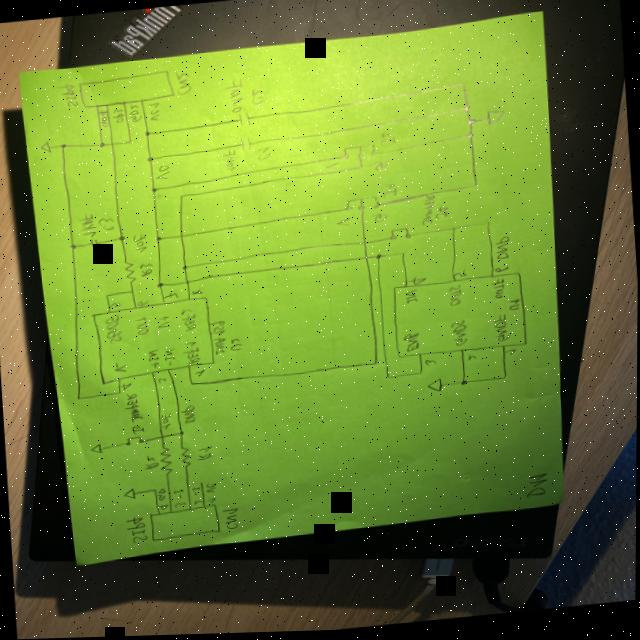capacitor: (238, 112, 253, 128), (239, 138, 253, 151), (88, 237, 101, 248)
crossover: (184, 278, 192, 285), (363, 255, 370, 261), (109, 140, 116, 146), (179, 233, 185, 239), (363, 241, 369, 247), (159, 435, 165, 439)
ground: (427, 379, 444, 395), (124, 487, 138, 500), (40, 140, 53, 153), (91, 443, 104, 454)
junction: (156, 280, 166, 289), (461, 107, 471, 114), (147, 155, 155, 163), (466, 120, 475, 127), (375, 254, 383, 261), (144, 130, 152, 137), (460, 381, 468, 388), (155, 235, 163, 242), (98, 141, 106, 148), (119, 235, 126, 241), (71, 243, 78, 249), (151, 186, 158, 192), (182, 264, 189, 270), (472, 184, 479, 190), (129, 289, 136, 295), (460, 84, 467, 90), (468, 134, 475, 140), (502, 377, 509, 382), (385, 375, 392, 380), (485, 223, 492, 228), (77, 395, 83, 400), (373, 362, 379, 367), (179, 431, 185, 436), (179, 194, 185, 199), (61, 143, 67, 148), (127, 139, 133, 144), (418, 372, 424, 377), (105, 293, 111, 298), (400, 253, 407, 257), (452, 228, 458, 232), (357, 166, 363, 170), (191, 382, 195, 386), (154, 487, 158, 491), (119, 392, 123, 394)
resistor: (122, 258, 138, 285), (159, 447, 175, 474), (178, 445, 193, 468)
source: (484, 110, 507, 127)
switch: (341, 143, 378, 161), (345, 196, 380, 213), (389, 228, 412, 242), (125, 435, 146, 448)
terminal: (77, 69, 176, 109), (150, 503, 222, 542)
text: (222, 79, 246, 114), (209, 320, 229, 356), (125, 515, 149, 544), (104, 313, 124, 345), (420, 194, 438, 228), (125, 392, 144, 424), (492, 315, 512, 344), (57, 82, 80, 107), (78, 212, 98, 238), (219, 147, 238, 173), (175, 69, 193, 96), (450, 321, 468, 348), (494, 237, 512, 263), (182, 341, 201, 365), (180, 307, 198, 332), (222, 508, 241, 530), (403, 333, 421, 354), (448, 286, 464, 309), (379, 129, 398, 148), (491, 279, 506, 302), (134, 315, 150, 336), (133, 232, 148, 253), (182, 404, 197, 425), (197, 444, 214, 462), (155, 164, 172, 181), (148, 348, 161, 369), (382, 184, 398, 201), (250, 88, 264, 107), (229, 337, 245, 353), (156, 314, 172, 330), (144, 455, 161, 470), (98, 216, 115, 231), (164, 348, 177, 367), (139, 261, 154, 277), (256, 147, 272, 162), (405, 290, 420, 306), (161, 412, 173, 431), (435, 206, 450, 221), (113, 360, 128, 374), (408, 277, 427, 288), (128, 109, 143, 122), (372, 213, 389, 224), (148, 109, 162, 122), (205, 482, 218, 496), (509, 300, 522, 314), (372, 162, 390, 172), (451, 271, 467, 282), (111, 113, 126, 124), (131, 424, 146, 435), (163, 290, 179, 300), (117, 381, 133, 391), (336, 219, 353, 228), (158, 488, 169, 501), (325, 163, 340, 172), (191, 486, 202, 498), (424, 359, 437, 369), (100, 115, 109, 128), (109, 299, 122, 308), (193, 369, 206, 378), (137, 298, 149, 307), (495, 268, 510, 275), (505, 350, 518, 358), (158, 376, 169, 385), (173, 489, 184, 498), (191, 289, 205, 296), (156, 503, 170, 510), (97, 108, 108, 116), (206, 497, 217, 505), (175, 501, 187, 508), (148, 102, 160, 109), (112, 107, 124, 114), (468, 355, 476, 363), (129, 104, 139, 110), (195, 499, 203, 506)
